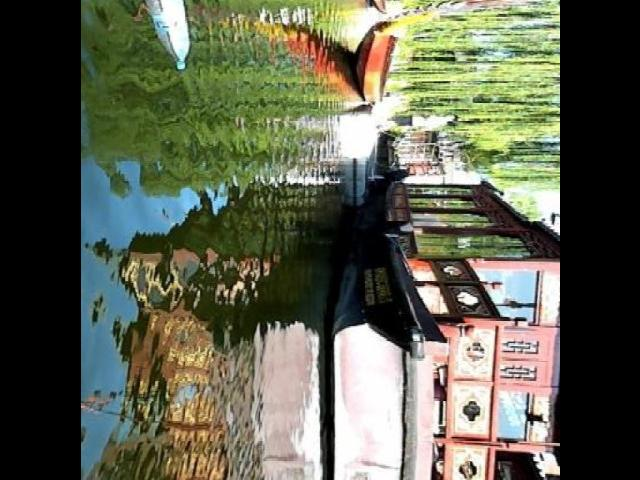Bottle: (151, 0, 191, 77)
